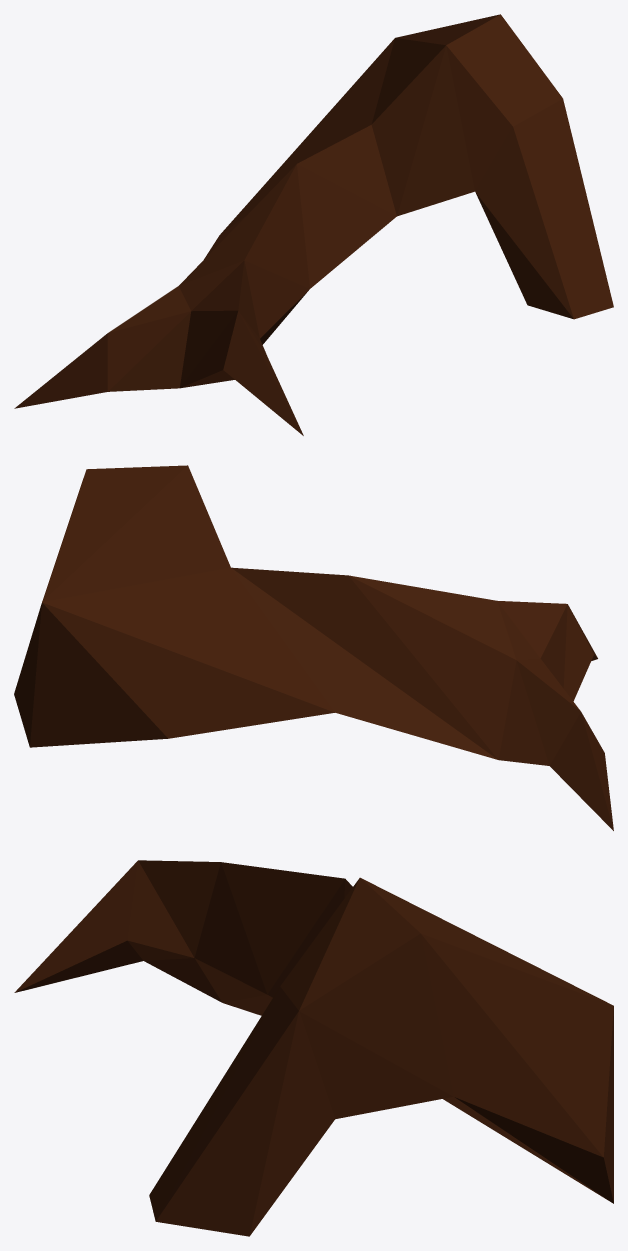
Rendered from 2D_Ground_Decals_Root3.fbx.
The picture shows the model from 3 angles, top to bottom: view 1: azimuth 30°, elevation 25°; view 2: azimuth 150°, elevation 25°; view 3: azimuth 270°, elevation 25°; orthographic projection. The views are drawn at different scales.
Parts seen in each view (by area): view 1: 2D_Ground_Decals_Root3; view 2: 2D_Ground_Decals_Root3; view 3: 2D_Ground_Decals_Root3.
Part boxes in pixels (x1,y1,x2,y2): 2D_Ground_Decals_Root3: (14,14,613,435); 2D_Ground_Decals_Root3: (14,465,613,830); 2D_Ground_Decals_Root3: (14,860,613,1236).
Size of the model in its own units: 202 by 92.73 by 151.
